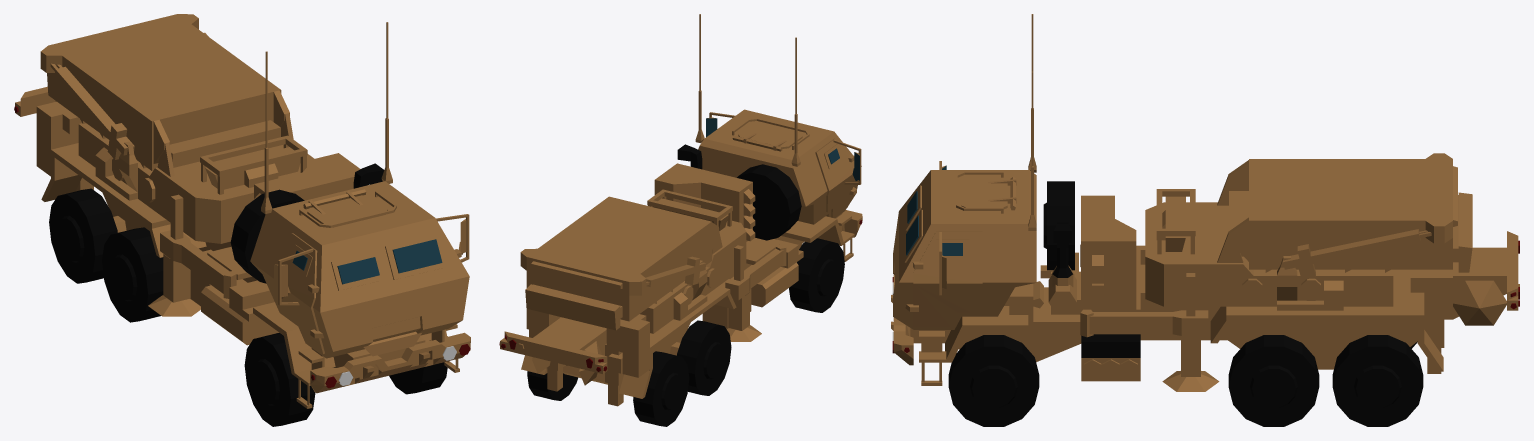
The model's file is ANTPQ-53_NATO-Desert.fbx.
The picture shows the model from 3 angles, left to right: view 1: azimuth 30°, elevation 25°; view 2: azimuth 150°, elevation 25°; view 3: azimuth 270°, elevation 25°; orthographic projection. The views are drawn at different scales.
Visible parts, largest first — view 1: ANTPQ_Body, ANTPQ_Turret_Radar, ANTPQ_Turret, ANTPQ_Wheel-Back_R-2, ANTPQ_Wheel-Back_R-1, ANTPQ_Wheel-Forward_R, ANTPQ_Body_Absorber-R, ANTPQ_Spare-Wheel, ANTPQ_Body_Glass-Parts, ANTPQ_Turret_Absorber-Base, ANTPQ_Wheel-Forward_L, ANTPQ_Body_Absorber-R_Leg (+1 smaller); view 2: ANTPQ_Body, ANTPQ_Turret_Radar, ANTPQ_Turret, ANTPQ_Wheel-Forward_R, ANTPQ_Spare-Wheel, ANTPQ_Wheel-Back_R-1, ANTPQ_Wheel-Back_R-2, ANTPQ_Body_Absorber-R, ANTPQ_Turret_Absorber-Base, ANTPQ_Wheel-Back_L-2, ANTPQ_Body_Glass-Parts, ANTPQ_Body_Same-Color-Parts (+1 smaller); view 3: ANTPQ_Body, ANTPQ_Turret_Radar, ANTPQ_Turret, ANTPQ_Wheel-Back_L-1, ANTPQ_Wheel-Back_L-2, ANTPQ_Wheel-Forward_L, ANTPQ_Body_Absorber-L, ANTPQ_Body_Same-Color-Parts, ANTPQ_Turret_Absorber-Base, ANTPQ_Spare-Wheel, ANTPQ_Body_Glass-Parts, ANTPQ_Body_Absorber-L_Leg.
Boxes of the visible parts, x1,y1,x2,y2 form: ANTPQ_Body: (15, 22, 470, 408); ANTPQ_Turret_Radar: (40, 14, 289, 170); ANTPQ_Turret: (78, 113, 314, 243); ANTPQ_Wheel-Back_R-2: (49, 188, 117, 283); ANTPQ_Wheel-Back_R-1: (102, 227, 163, 322); ANTPQ_Wheel-Forward_R: (244, 333, 315, 426); ANTPQ_Body_Absorber-R: (160, 194, 236, 302); ANTPQ_Spare-Wheel: (230, 189, 304, 283); ANTPQ_Body_Glass-Parts: (292, 239, 442, 284); ANTPQ_Turret_Absorber-Base: (54, 32, 208, 159); ANTPQ_Wheel-Forward_L: (389, 362, 447, 394); ANTPQ_Body_Absorber-R_Leg: (148, 259, 200, 316); ANTPQ_Body: (500, 14, 862, 406); ANTPQ_Turret_Radar: (520, 196, 718, 330); ANTPQ_Turret: (640, 189, 746, 333); ANTPQ_Wheel-Forward_R: (789, 238, 844, 312); ANTPQ_Spare-Wheel: (737, 164, 801, 240); ANTPQ_Wheel-Back_R-1: (677, 320, 731, 395); ANTPQ_Wheel-Back_R-2: (633, 351, 689, 426); ANTPQ_Body_Absorber-R: (725, 244, 786, 330); ANTPQ_Turret_Absorber-Base: (645, 256, 706, 286); ANTPQ_Wheel-Back_L-2: (527, 371, 577, 400); ANTPQ_Body_Glass-Parts: (706, 118, 859, 180); ANTPQ_Body_Same-Color-Parts: (677, 144, 702, 169); ANTPQ_Body: (891, 14, 1519, 385); ANTPQ_Turret_Radar: (1228, 153, 1472, 272); ANTPQ_Turret: (1145, 175, 1393, 310); ANTPQ_Wheel-Back_L-1: (1228, 335, 1319, 426); ANTPQ_Wheel-Back_L-2: (1332, 335, 1423, 426); ANTPQ_Wheel-Forward_L: (948, 335, 1039, 426); ANTPQ_Body_Absorber-L: (1080, 273, 1208, 376); ANTPQ_Body_Same-Color-Parts: (1052, 222, 1140, 357); ANTPQ_Turret_Absorber-Base: (1283, 229, 1420, 280); ANTPQ_Spare-Wheel: (1043, 181, 1074, 270); ANTPQ_Body_Glass-Parts: (906, 165, 962, 255); ANTPQ_Body_Absorber-L_Leg: (1162, 336, 1219, 391).
Size of the model in its own units: 265 by 461 by 759.
